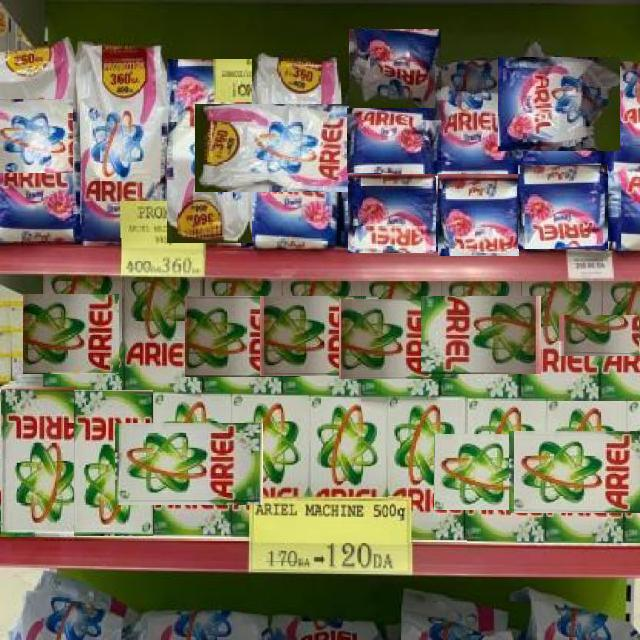Detergent: (74, 40, 169, 238), (195, 104, 394, 192), (166, 59, 252, 243), (116, 422, 263, 505), (73, 389, 153, 536), (0, 386, 77, 537), (389, 396, 467, 543), (498, 58, 620, 151), (434, 434, 578, 510), (509, 430, 640, 513), (0, 98, 137, 173), (260, 295, 379, 376), (340, 298, 459, 379), (435, 59, 516, 177), (420, 297, 541, 374), (24, 293, 139, 374), (120, 275, 201, 390), (185, 296, 300, 377), (349, 29, 441, 113), (517, 165, 608, 249), (347, 173, 436, 253), (438, 173, 519, 256), (347, 109, 438, 173), (560, 315, 640, 356)
